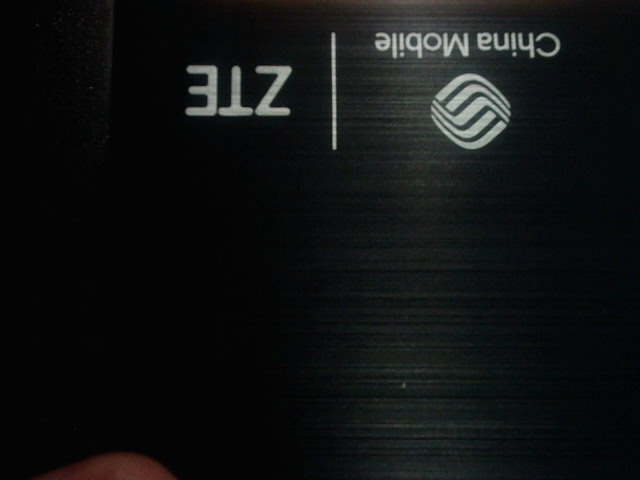AL_ZTEChinaMobile: (168, 18, 569, 153)
